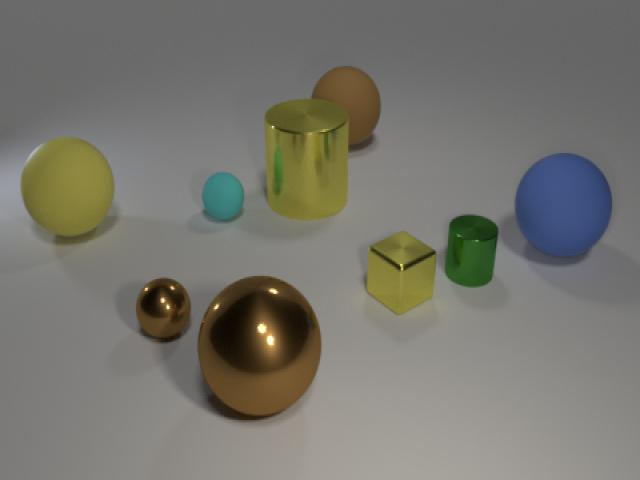cylinder: (257, 91, 356, 225), (441, 207, 503, 294)
round ball: (195, 261, 328, 430), (511, 142, 618, 271), (15, 128, 123, 246), (307, 60, 390, 149), (132, 272, 192, 346), (197, 168, 250, 224)
